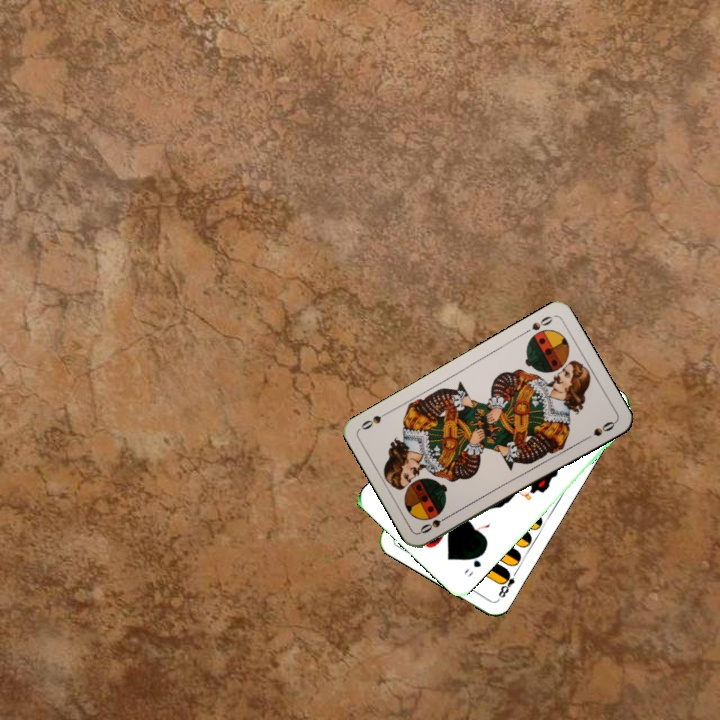E8: (494, 565, 520, 600)
GO: (460, 547, 487, 579)
SO: (416, 510, 454, 536), (519, 311, 556, 337)
